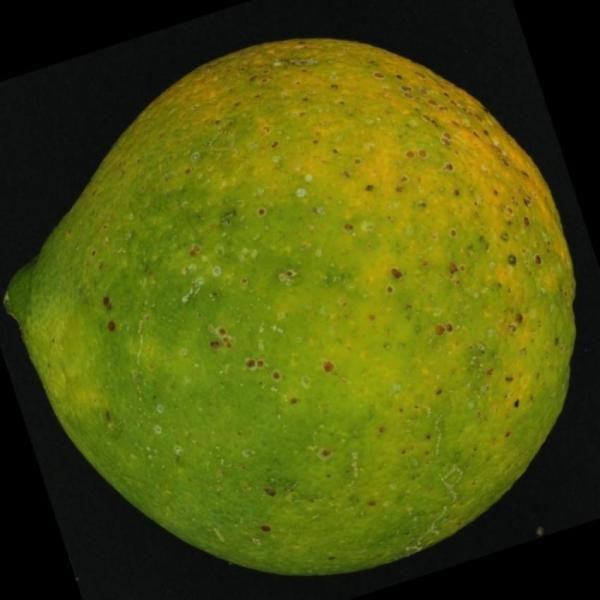Greening: (5, 23, 591, 580)
